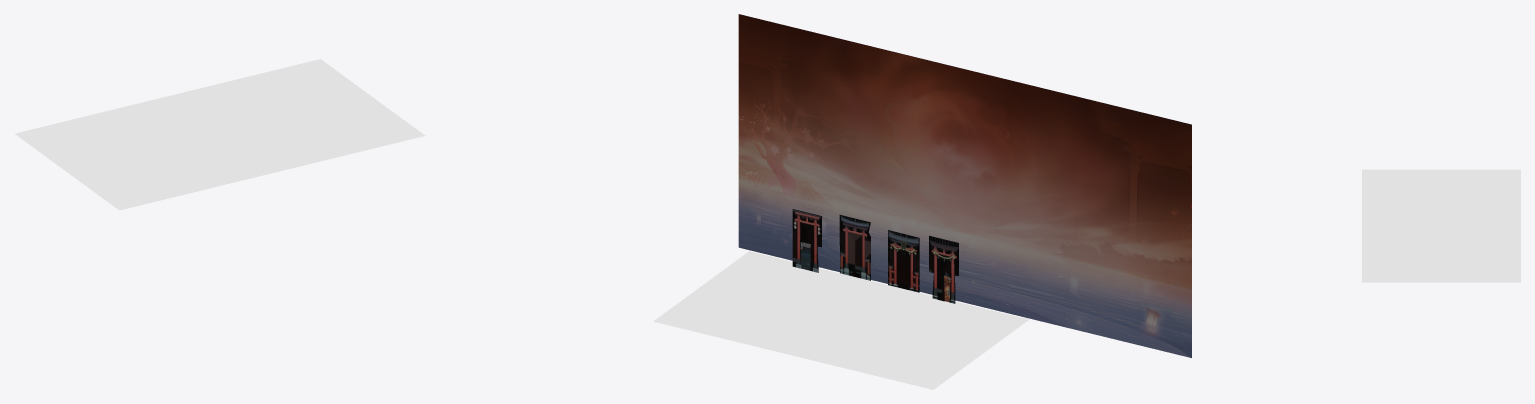
Rendered from lvl_qsmy_xinggongrukou.glb.
3 renders of one model, left to right at view 1: azimuth 30°, elevation 25°; view 2: azimuth 150°, elevation 25°; view 3: azimuth 270°, elevation 25°, orthographic. The views are drawn at different scales.
Parts seen in each view (by area): view 1: water05; view 2: beijing, water05, ui_xinggongrukou; view 3: water05.
Boxes of the visible parts, x1,y1,x2,y2 form: water05: (15,59,425,210); beijing: (738,14,1191,357); water05: (653,251,1028,389); ui_xinggongrukou: (792,209,958,301); water05: (1362,169,1520,282).
Size of the model in its own units: 119 by 58.62 by 82.76.
Materials: 12 (11 with a texture image).
